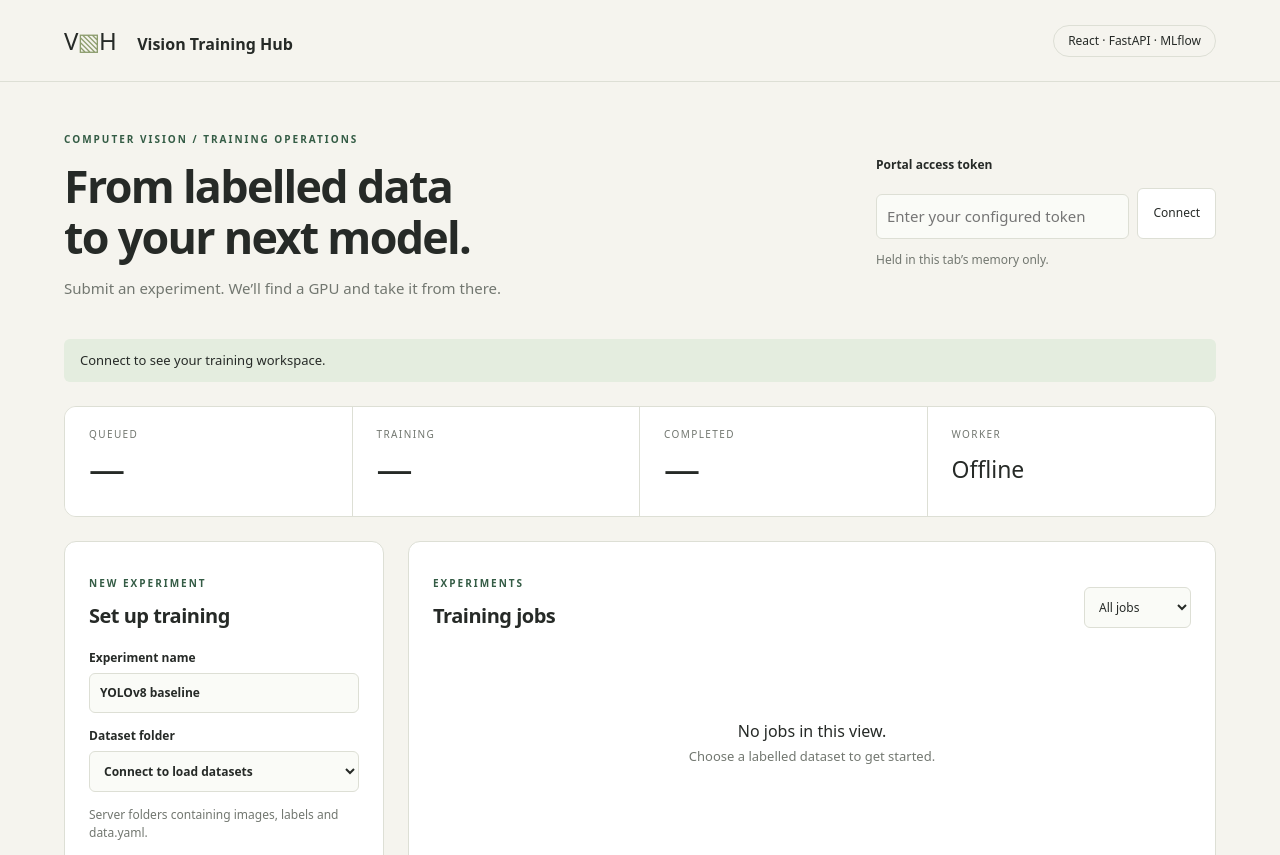
React training portal › filters jobs by status
In the password field labelled "Portal access token": (1003, 216) [876,194,1130,239], type "local-token"
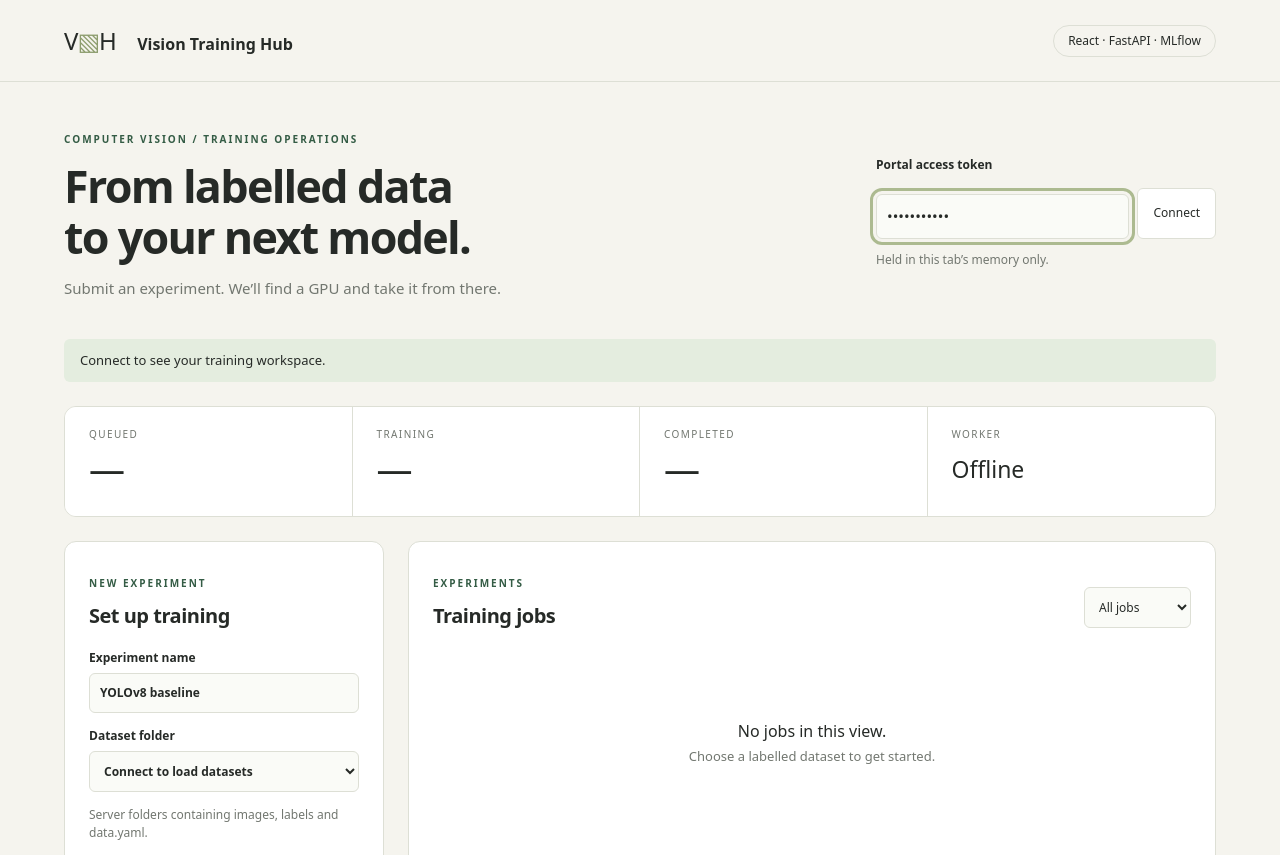
Click the button "Connect": (1177, 213) [1138,188,1216,239]
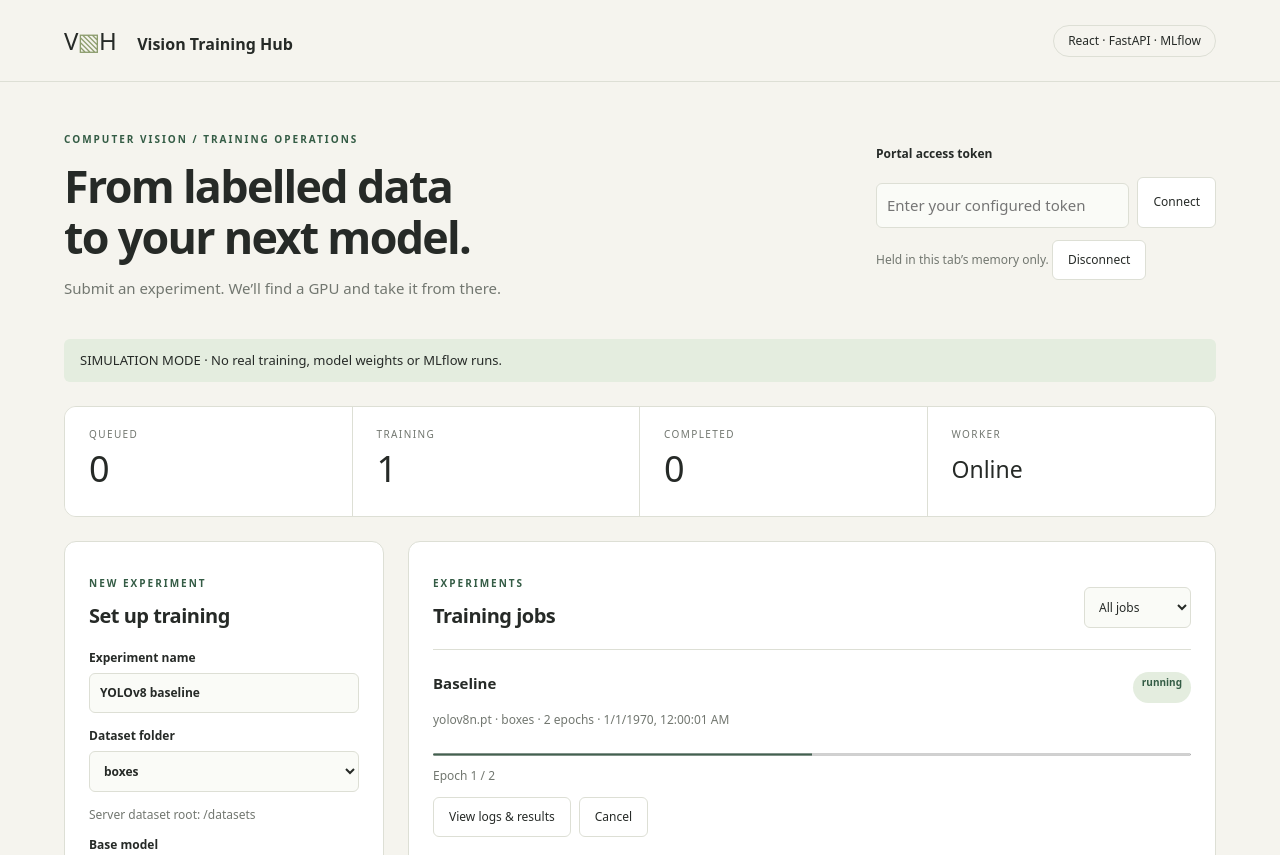
Now the heading "Baseline" is shown, box [433,672,496,695]
Select "completed" in the dropdown named "Filter jobs": (1138, 608) [1084,587,1191,628]
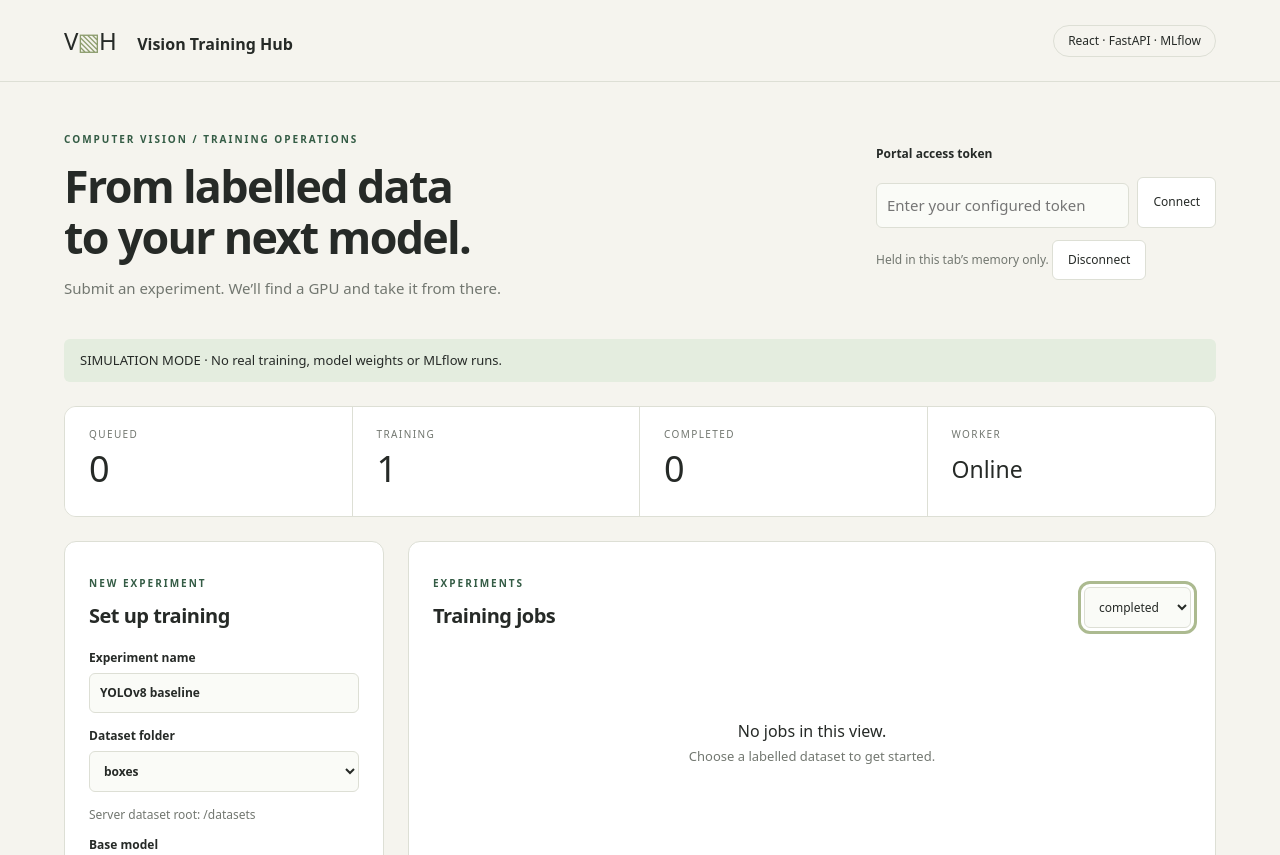
Now the text "No jobs in this view." is shown, box [738,720,886,742]
